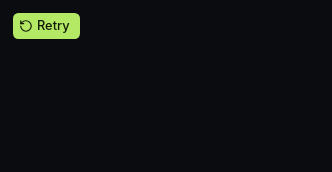
it: TaskActions › shows the control plane's refusal instead of failing silently
This screenshot has width=332, height=172.
Click the button "Retry".
click(46, 26)  # box [12, 12, 80, 40]
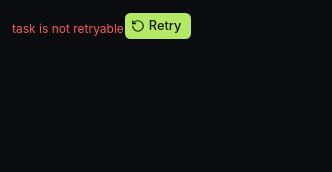
Now the message reads "task is not retryable", box [12, 21, 124, 36]
